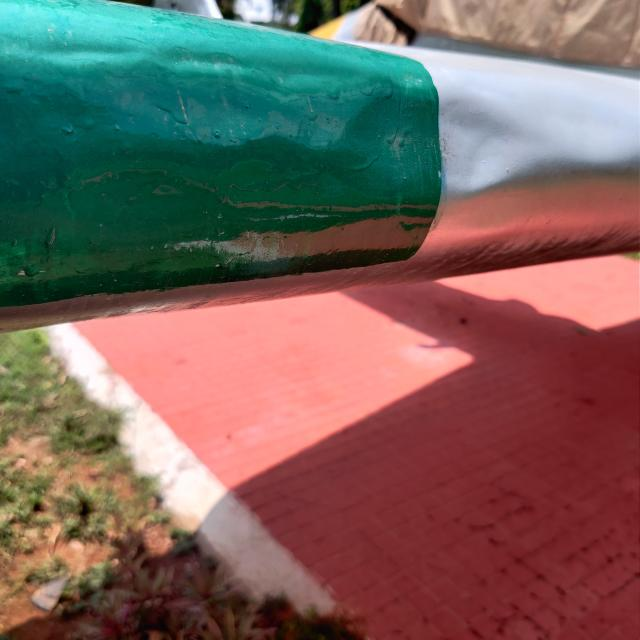dent: (324, 73, 559, 226)
